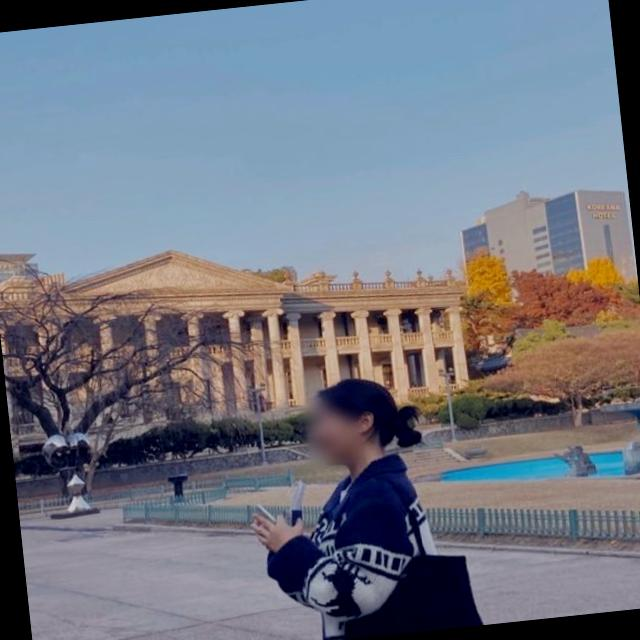cardigan: (245, 446, 445, 640)
